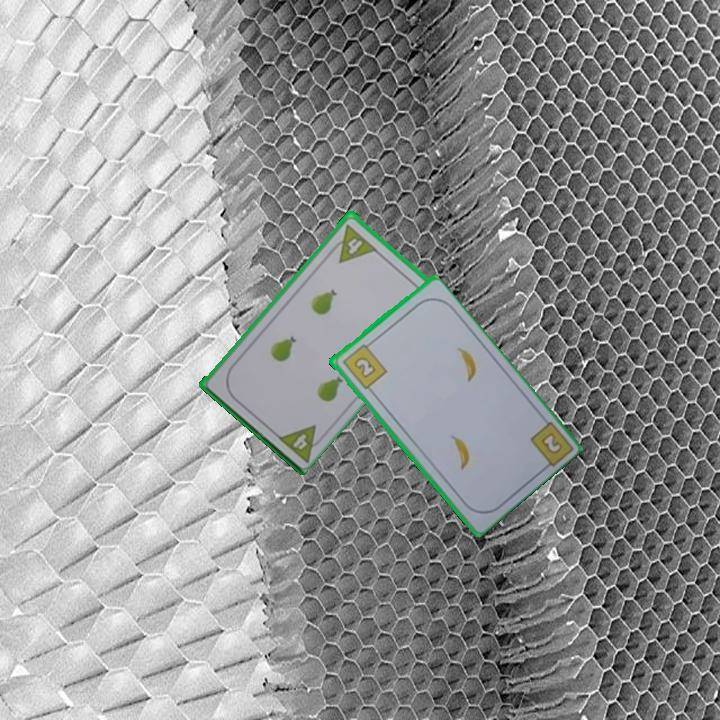2b: (338, 338, 389, 392), (537, 429, 565, 457)
4p: (338, 231, 377, 265), (289, 429, 311, 452)
